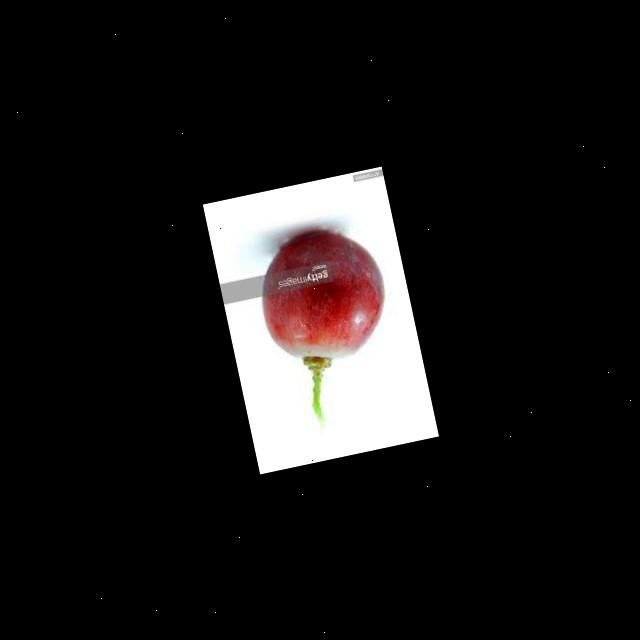grape: (242, 218, 396, 380)
